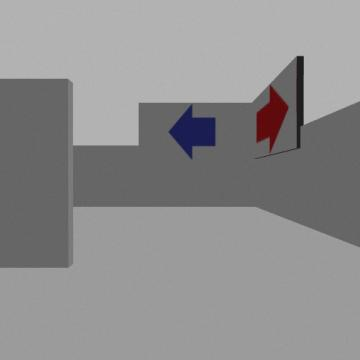blue_left: (169, 105, 215, 158)
red_right: (256, 85, 288, 153)
